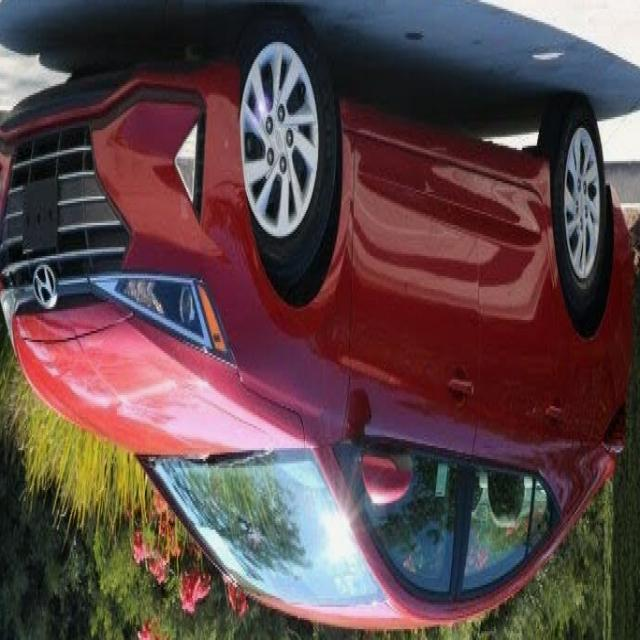maroon: (2, 74, 635, 628)
